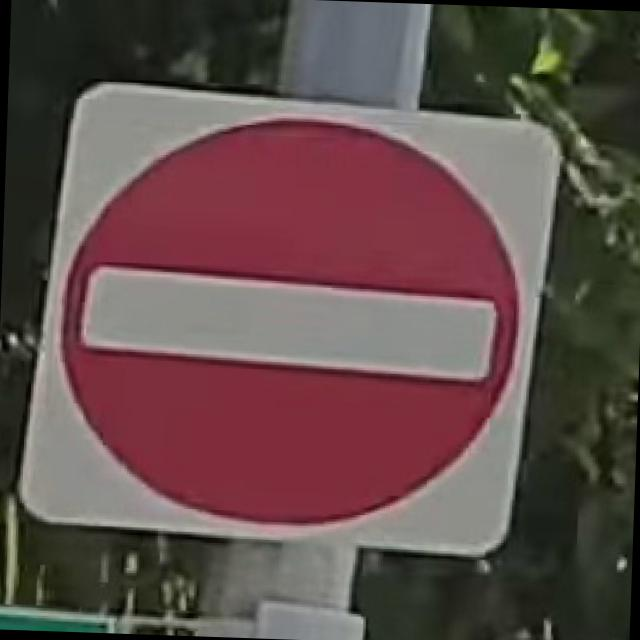noentry_sign: (9, 71, 564, 562)
